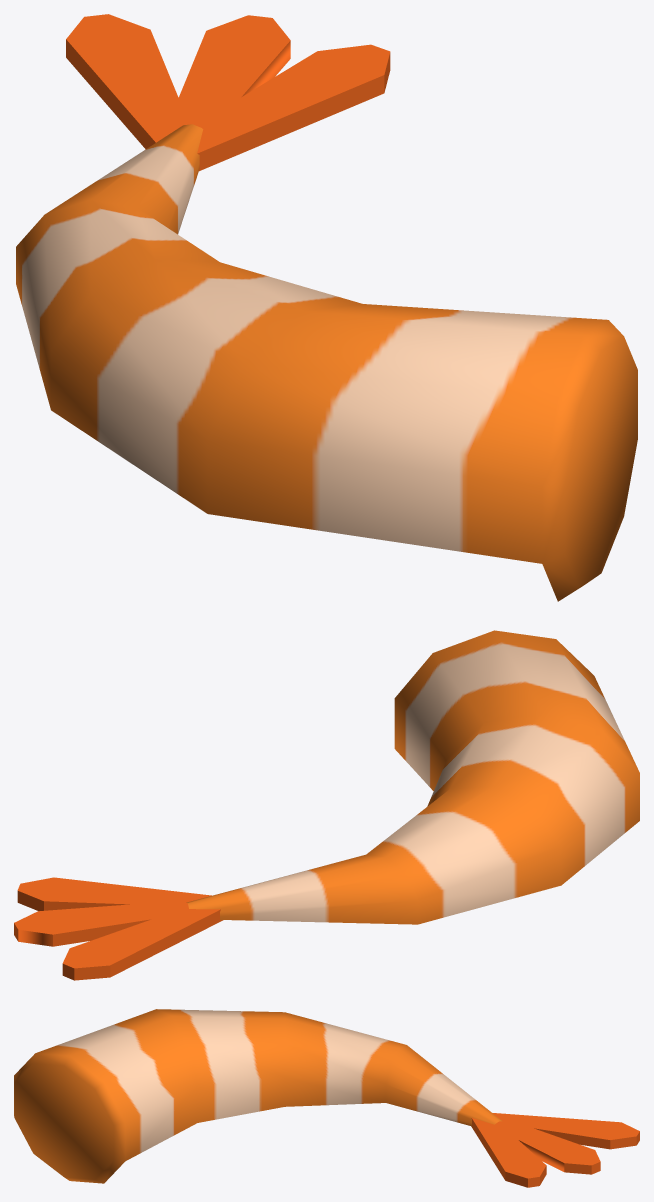
File: shrim.FBX
The picture shows the model from 3 angles, top to bottom: view 1: azimuth 30°, elevation 25°; view 2: azimuth 150°, elevation 25°; view 3: azimuth 270°, elevation 25°; orthographic projection. The views are drawn at different scales.
Visible parts, largest first — view 1: Object256; view 2: Object256; view 3: Object256.
Part boxes in pixels (left/top/right/bottom): Object256: left=16, top=14, right=637, bottom=601; Object256: left=14, top=630, right=639, bottom=980; Object256: left=14, top=1009, right=639, bottom=1187.
Bounding box in the file's own units: 1.1 × 0.4508 × 2.04.
